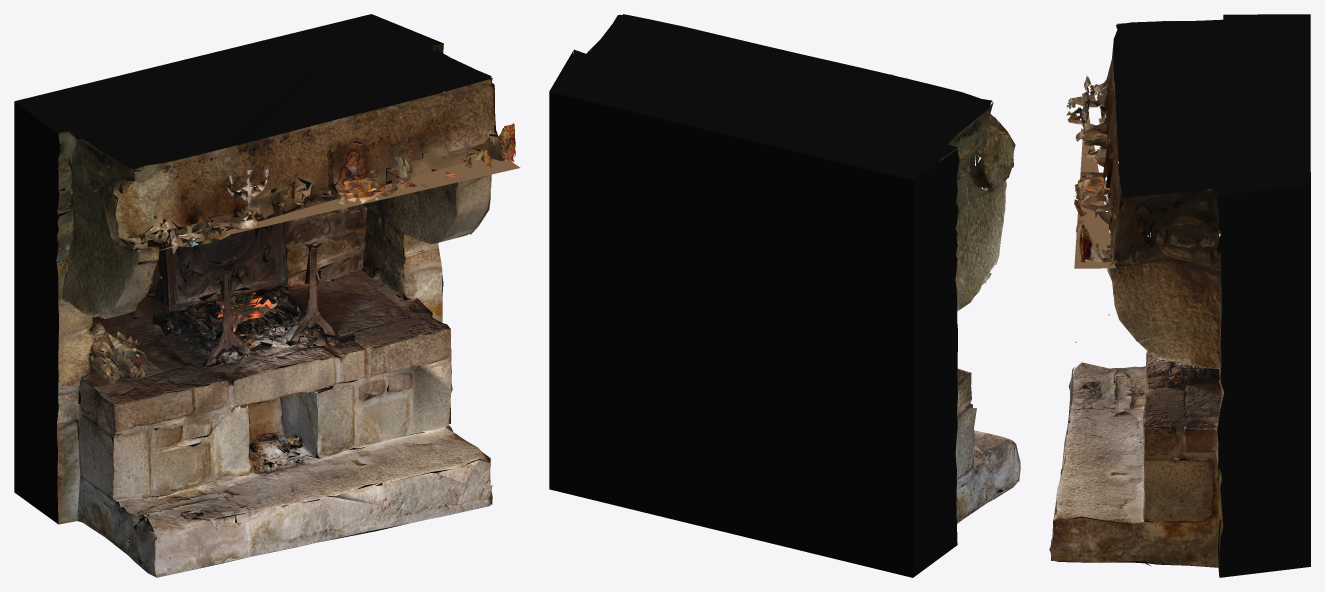
Rendered from fireplace_rustic.glb.
3 views of the same model, side by side, from view 1: azimuth 30°, elevation 25°; view 2: azimuth 150°, elevation 25°; view 3: azimuth 270°, elevation 25° (orthographic). The views are drawn at different scales.
Visible parts, largest first — view 1: fireplace_fireplace_0, back_cover_back_cover_0, fireplace_fireplace_plaque_0, plank_plank_0, logs_stack_logs_stack_0, burning_logs_burning_logs_0; view 2: back_cover_back_cover_0, fireplace_fireplace_0; view 3: back_cover_back_cover_0, fireplace_fireplace_0, plank_plank_0.
Boxes of the visible parts, left/top/right/bottom form: fireplace_fireplace_0: left=56, top=43, right=515, bottom=577; back_cover_back_cover_0: left=14, top=14, right=491, bottom=572; fireplace_fireplace_plaque_0: left=160, top=206, right=335, bottom=366; plank_plank_0: left=155, top=158, right=520, bottom=251; logs_stack_logs_stack_0: left=89, top=323, right=158, bottom=383; burning_logs_burning_logs_0: left=215, top=296, right=284, bottom=331; back_cover_back_cover_0: left=549, top=15, right=1015, bottom=577; fireplace_fireplace_0: left=574, top=14, right=1020, bottom=544; back_cover_back_cover_0: left=1052, top=14, right=1310, bottom=577; fireplace_fireplace_0: left=1049, top=21, right=1296, bottom=575; plank_plank_0: left=1074, top=114, right=1115, bottom=268.
Bounding box in the file's own units: 2.48 × 2.4 × 1.48.
Materials: 9 (6 with a texture image).
